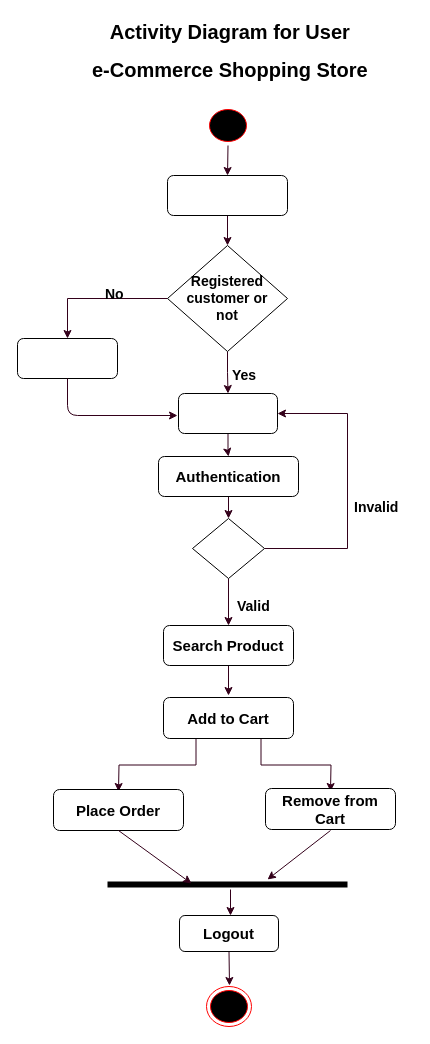
Image size: 430x1044. Some labels were removed from this diagram. The centre of each missing label's shape, as x and y in pixels:
Check: the point at 228,548
Login: the point at 228,413
Register: the point at 67,358
Visit Website: the point at 227,195
